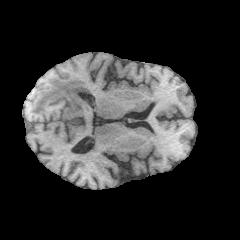glioma: (30, 77, 92, 117)
